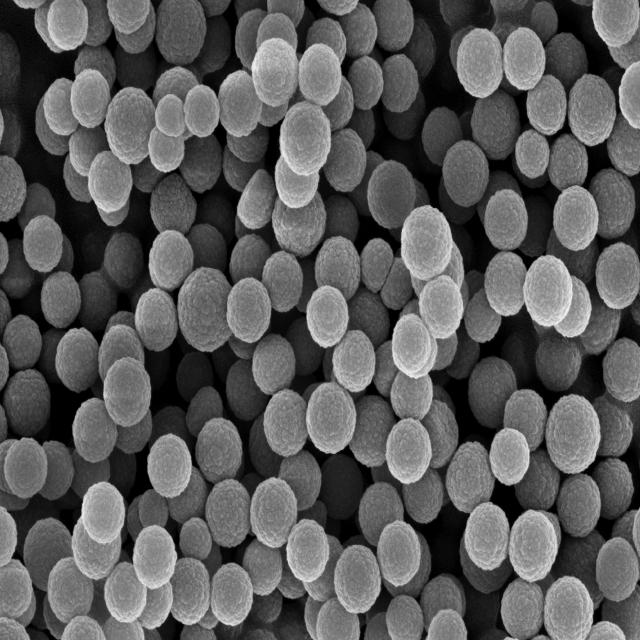cells: (178, 266, 230, 352), (546, 396, 600, 475), (270, 185, 328, 258), (469, 85, 523, 162), (468, 352, 519, 430), (22, 516, 74, 592), (348, 391, 397, 470), (589, 166, 638, 242), (401, 206, 452, 279), (106, 88, 154, 164), (521, 256, 572, 326), (280, 104, 331, 174), (306, 384, 357, 454), (568, 74, 617, 146), (46, 556, 96, 626), (157, 0, 209, 66), (509, 510, 558, 580), (417, 397, 462, 472), (447, 441, 495, 511), (456, 28, 503, 98), (442, 142, 489, 212), (104, 358, 152, 426), (367, 161, 415, 229), (205, 480, 252, 549), (168, 556, 213, 628), (98, 322, 146, 389), (314, 234, 362, 301), (358, 480, 406, 547), (252, 478, 297, 548), (217, 68, 262, 138), (324, 124, 369, 194), (252, 38, 298, 106), (196, 418, 242, 486), (332, 326, 377, 395), (545, 576, 593, 640), (465, 502, 510, 570), (502, 386, 546, 455), (545, 28, 591, 94), (335, 546, 380, 613), (260, 247, 304, 315), (592, 455, 636, 522), (386, 420, 432, 484), (376, 522, 422, 586), (419, 276, 464, 341), (421, 103, 466, 168), (227, 276, 271, 342), (73, 397, 118, 461), (533, 334, 581, 394), (4, 371, 50, 433), (500, 577, 546, 639), (149, 174, 199, 231), (554, 187, 599, 250), (252, 333, 297, 396), (148, 434, 192, 498), (483, 252, 527, 316), (399, 10, 441, 77), (597, 243, 640, 308), (236, 166, 279, 231), (180, 132, 224, 195), (78, 266, 120, 332), (242, 532, 284, 598), (503, 28, 546, 92), (265, 392, 308, 456), (552, 274, 593, 341), (590, 392, 635, 453), (225, 358, 267, 423), (558, 475, 602, 537), (148, 230, 195, 288), (133, 526, 178, 586), (103, 228, 145, 292), (575, 299, 623, 355), (298, 44, 342, 105), (56, 329, 100, 390), (389, 365, 435, 423), (278, 453, 323, 512), (35, 89, 74, 157), (135, 288, 177, 351), (598, 538, 638, 604), (419, 572, 466, 628), (307, 284, 349, 346), (211, 562, 252, 625), (88, 152, 132, 210), (486, 189, 528, 249), (274, 155, 320, 209), (71, 70, 111, 132), (234, 6, 274, 68), (82, 482, 124, 541), (7, 436, 48, 496), (527, 74, 566, 137), (2, 312, 45, 369), (287, 522, 329, 580), (402, 468, 444, 526), (548, 133, 590, 191), (0, 238, 39, 300), (286, 315, 323, 380), (228, 231, 274, 283), (106, 563, 147, 621), (38, 438, 75, 502), (248, 409, 283, 476), (43, 272, 82, 332), (186, 218, 229, 272), (379, 54, 420, 110), (392, 316, 432, 372), (67, 130, 110, 182), (112, 404, 155, 456), (16, 180, 58, 233), (175, 349, 217, 402), (489, 427, 529, 482), (304, 15, 348, 65), (116, 4, 158, 56), (380, 256, 419, 312), (183, 381, 224, 434), (605, 339, 640, 401), (593, 1, 640, 47), (73, 42, 118, 90), (359, 234, 395, 294), (44, 76, 78, 139), (372, 0, 414, 51), (0, 557, 34, 619), (464, 288, 503, 342), (24, 215, 62, 270), (349, 54, 386, 110), (340, 5, 379, 58), (153, 66, 203, 106), (385, 591, 425, 640), (256, 11, 299, 56), (49, 0, 88, 49), (316, 599, 362, 640), (224, 124, 271, 164), (185, 85, 220, 138), (0, 154, 28, 220), (325, 196, 362, 244), (322, 74, 354, 128), (374, 336, 402, 396), (178, 514, 214, 560), (516, 130, 551, 177), (63, 154, 95, 205), (106, 0, 152, 34), (249, 584, 286, 626), (150, 125, 184, 170), (428, 327, 460, 373), (149, 401, 192, 435), (138, 487, 172, 529), (426, 607, 469, 640), (130, 154, 165, 194), (156, 94, 186, 139), (530, 0, 560, 44), (621, 63, 640, 128)
